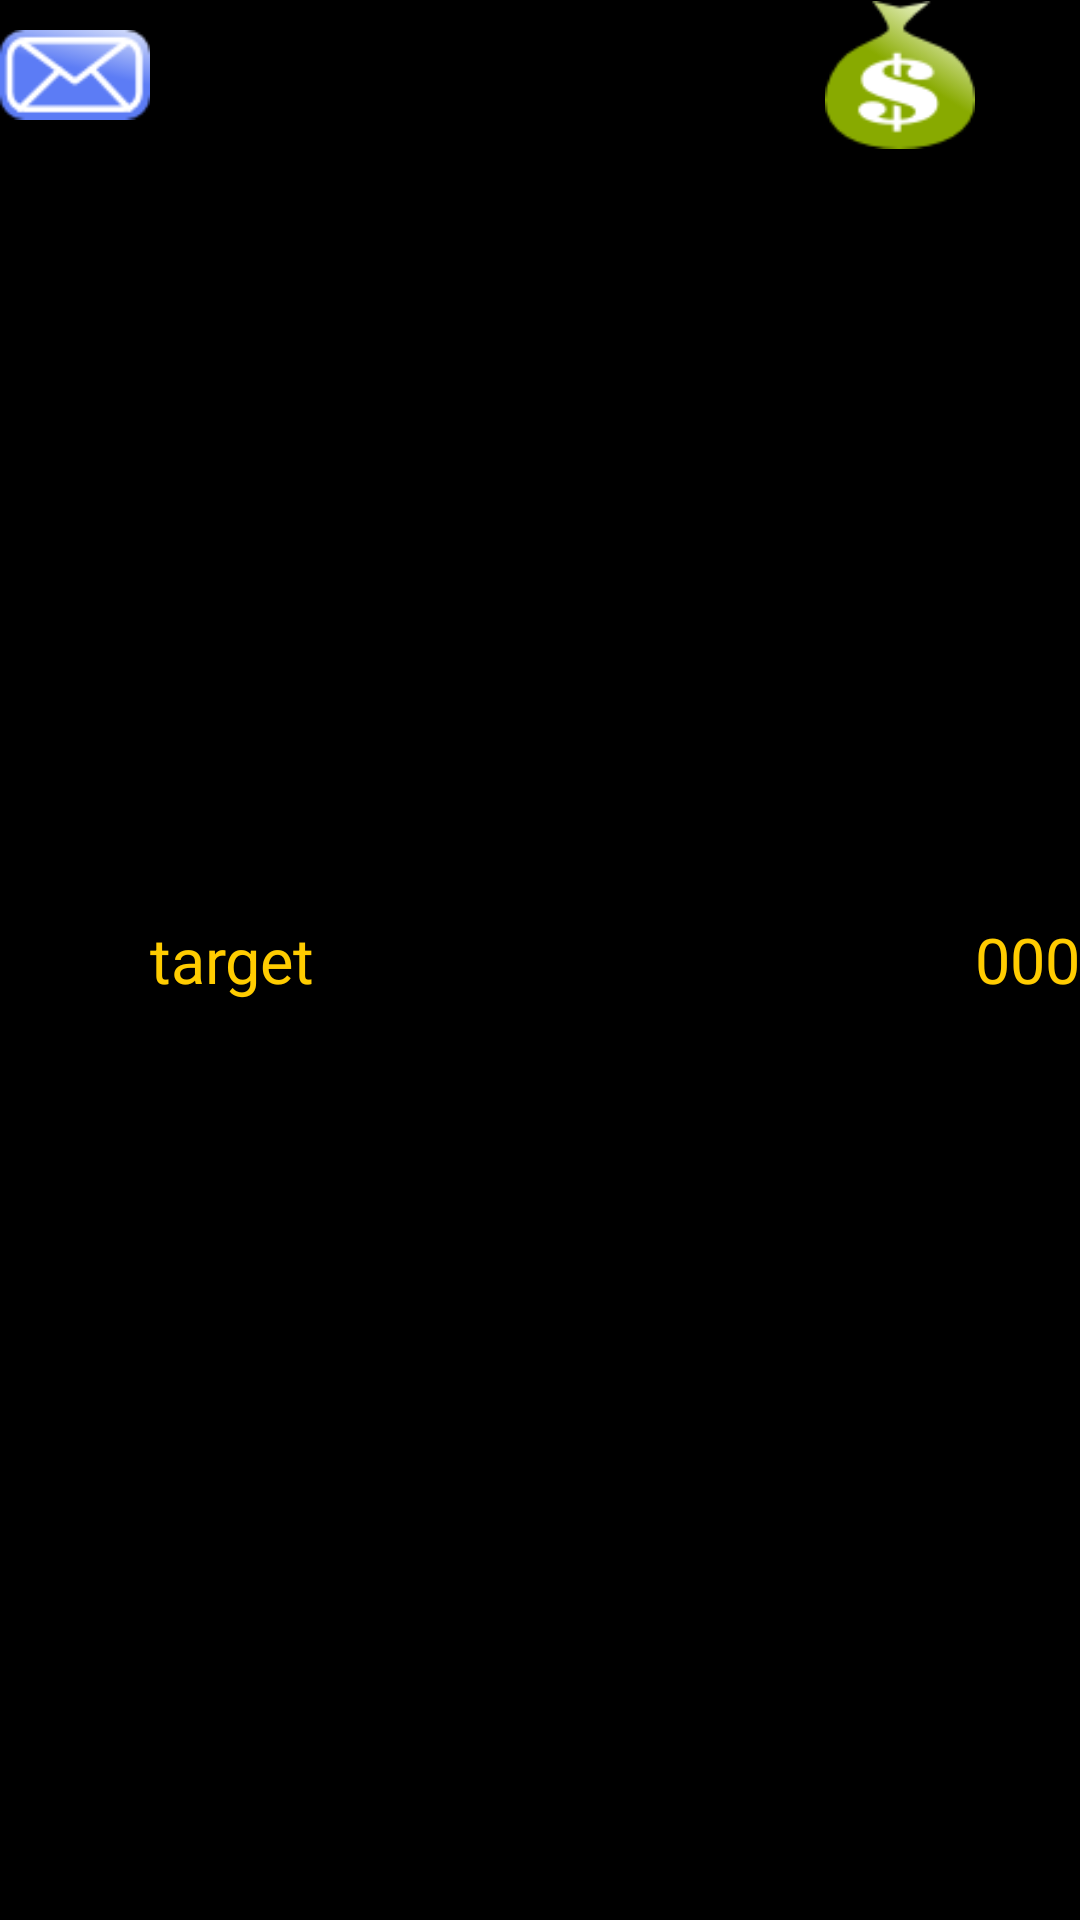

Icon click points for this 1080×1920 phone screenshot, format point (x, y):
cash: point (900, 75)
letter: point (75, 75)
